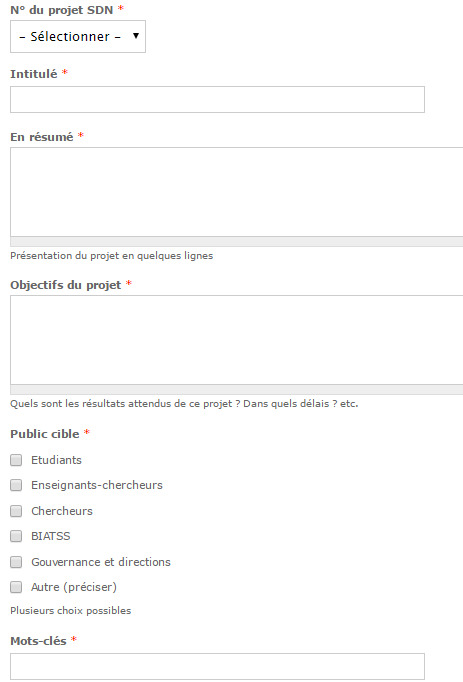_form_: (1, 2, 463, 395), (1, 288, 463, 681)
checkbox: (8, 503, 27, 521), (6, 554, 25, 570), (6, 452, 23, 468), (8, 477, 23, 495), (9, 528, 23, 545), (8, 580, 25, 594)
checkbox_with_label: (5, 475, 166, 497), (3, 552, 171, 573), (5, 577, 117, 597), (4, 500, 94, 523), (4, 450, 81, 470), (5, 526, 71, 546)
field: (8, 144, 463, 241), (6, 294, 463, 388), (8, 649, 432, 681), (9, 83, 426, 115)
field_with_label: (5, 130, 463, 243), (4, 279, 463, 389), (6, 68, 427, 117), (6, 634, 434, 681), (4, 3, 150, 55)
select: (7, 18, 149, 54)
